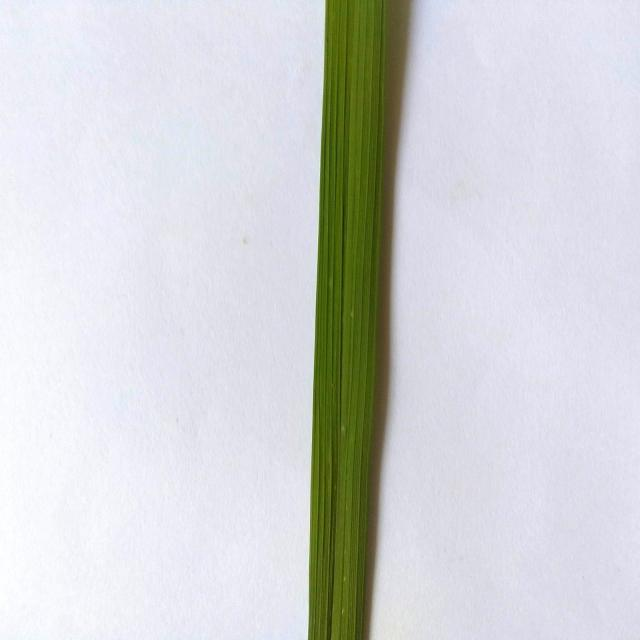healthy: (286, 0, 424, 640)
